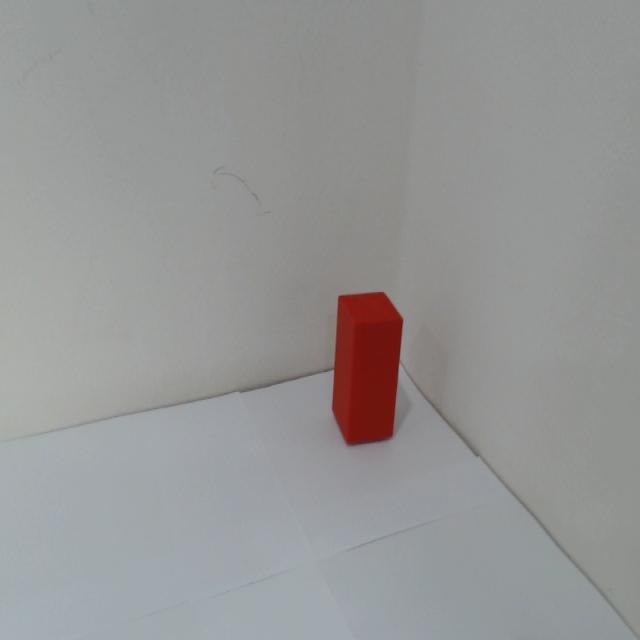cube: (331, 286, 405, 461)
